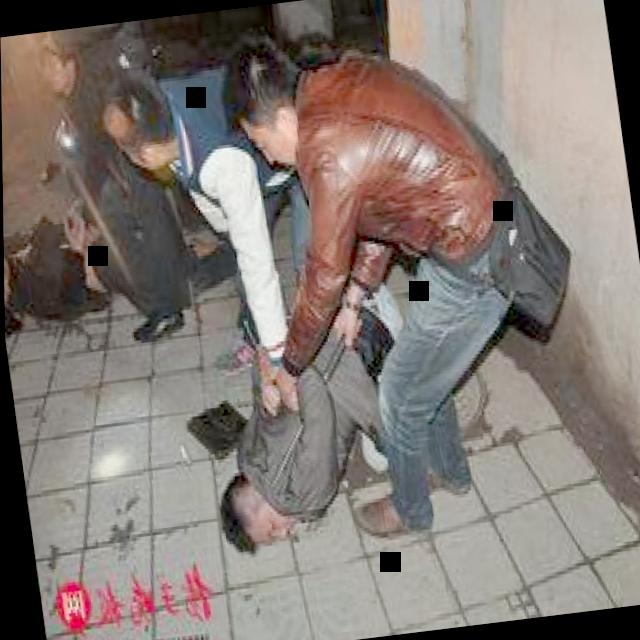Fall-Detected: (179, 259, 431, 582)
